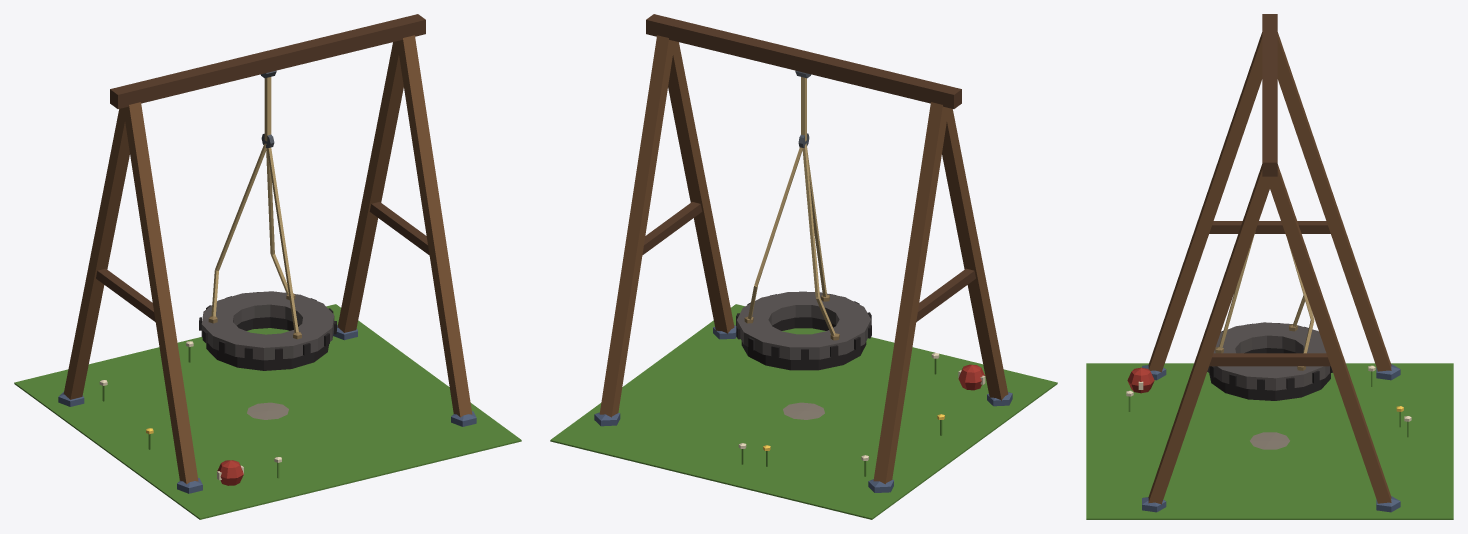
Rendered from bld_kit_swing_1x1.glb.
3 renders of one model, left to right at view 1: azimuth 30°, elevation 25°; view 2: azimuth 150°, elevation 25°; view 3: azimuth 270°, elevation 25°, orthographic.
Visible parts, largest first — view 1: bld_kit_swing_1x1, pr_swing; view 2: bld_kit_swing_1x1, pr_swing; view 3: bld_kit_swing_1x1, pr_swing.
Part boxes in pixels (x1,y1,x2,y2): bld_kit_swing_1x1: (14,14,521,519); pr_swing: (199,77,336,370); bld_kit_swing_1x1: (550,14,1057,519); pr_swing: (736,77,871,370); bld_kit_swing_1x1: (1086,14,1453,519); pr_swing: (1207,232,1332,400).
Bounding box in the file's own units: 0.94 × 1 × 0.94.
Materials: 1 (1 with a texture image).
